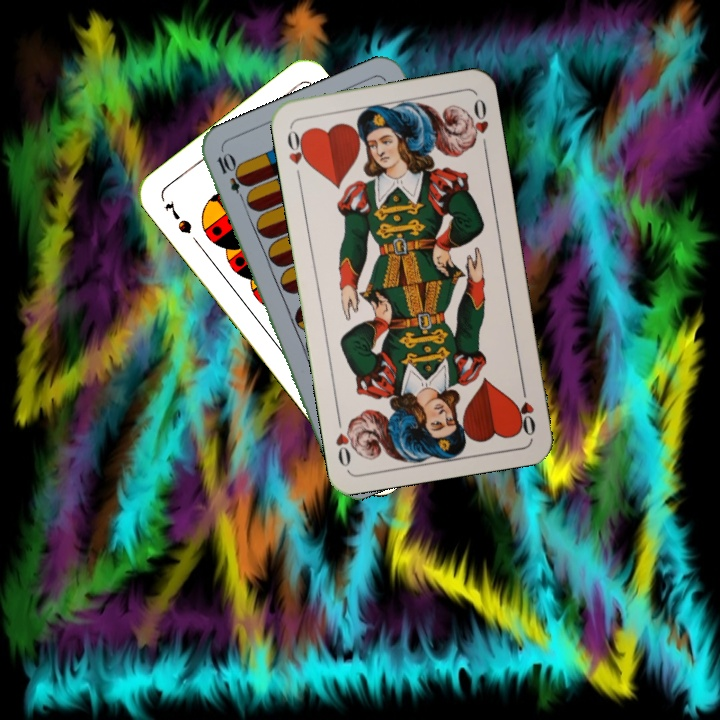E10: (213, 149, 250, 206)
HO: (283, 123, 312, 182), (512, 379, 538, 439)
S7: (161, 196, 195, 237)
